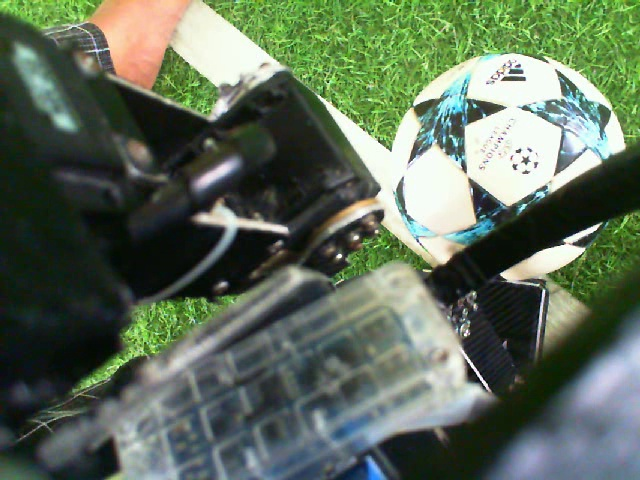ball: (388, 51, 628, 214)
